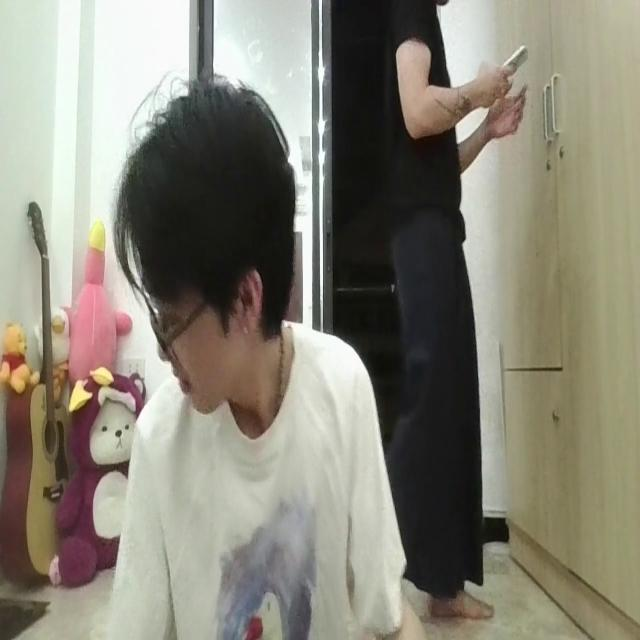extra_person: (391, 0, 522, 621)
student: (108, 74, 399, 640)
